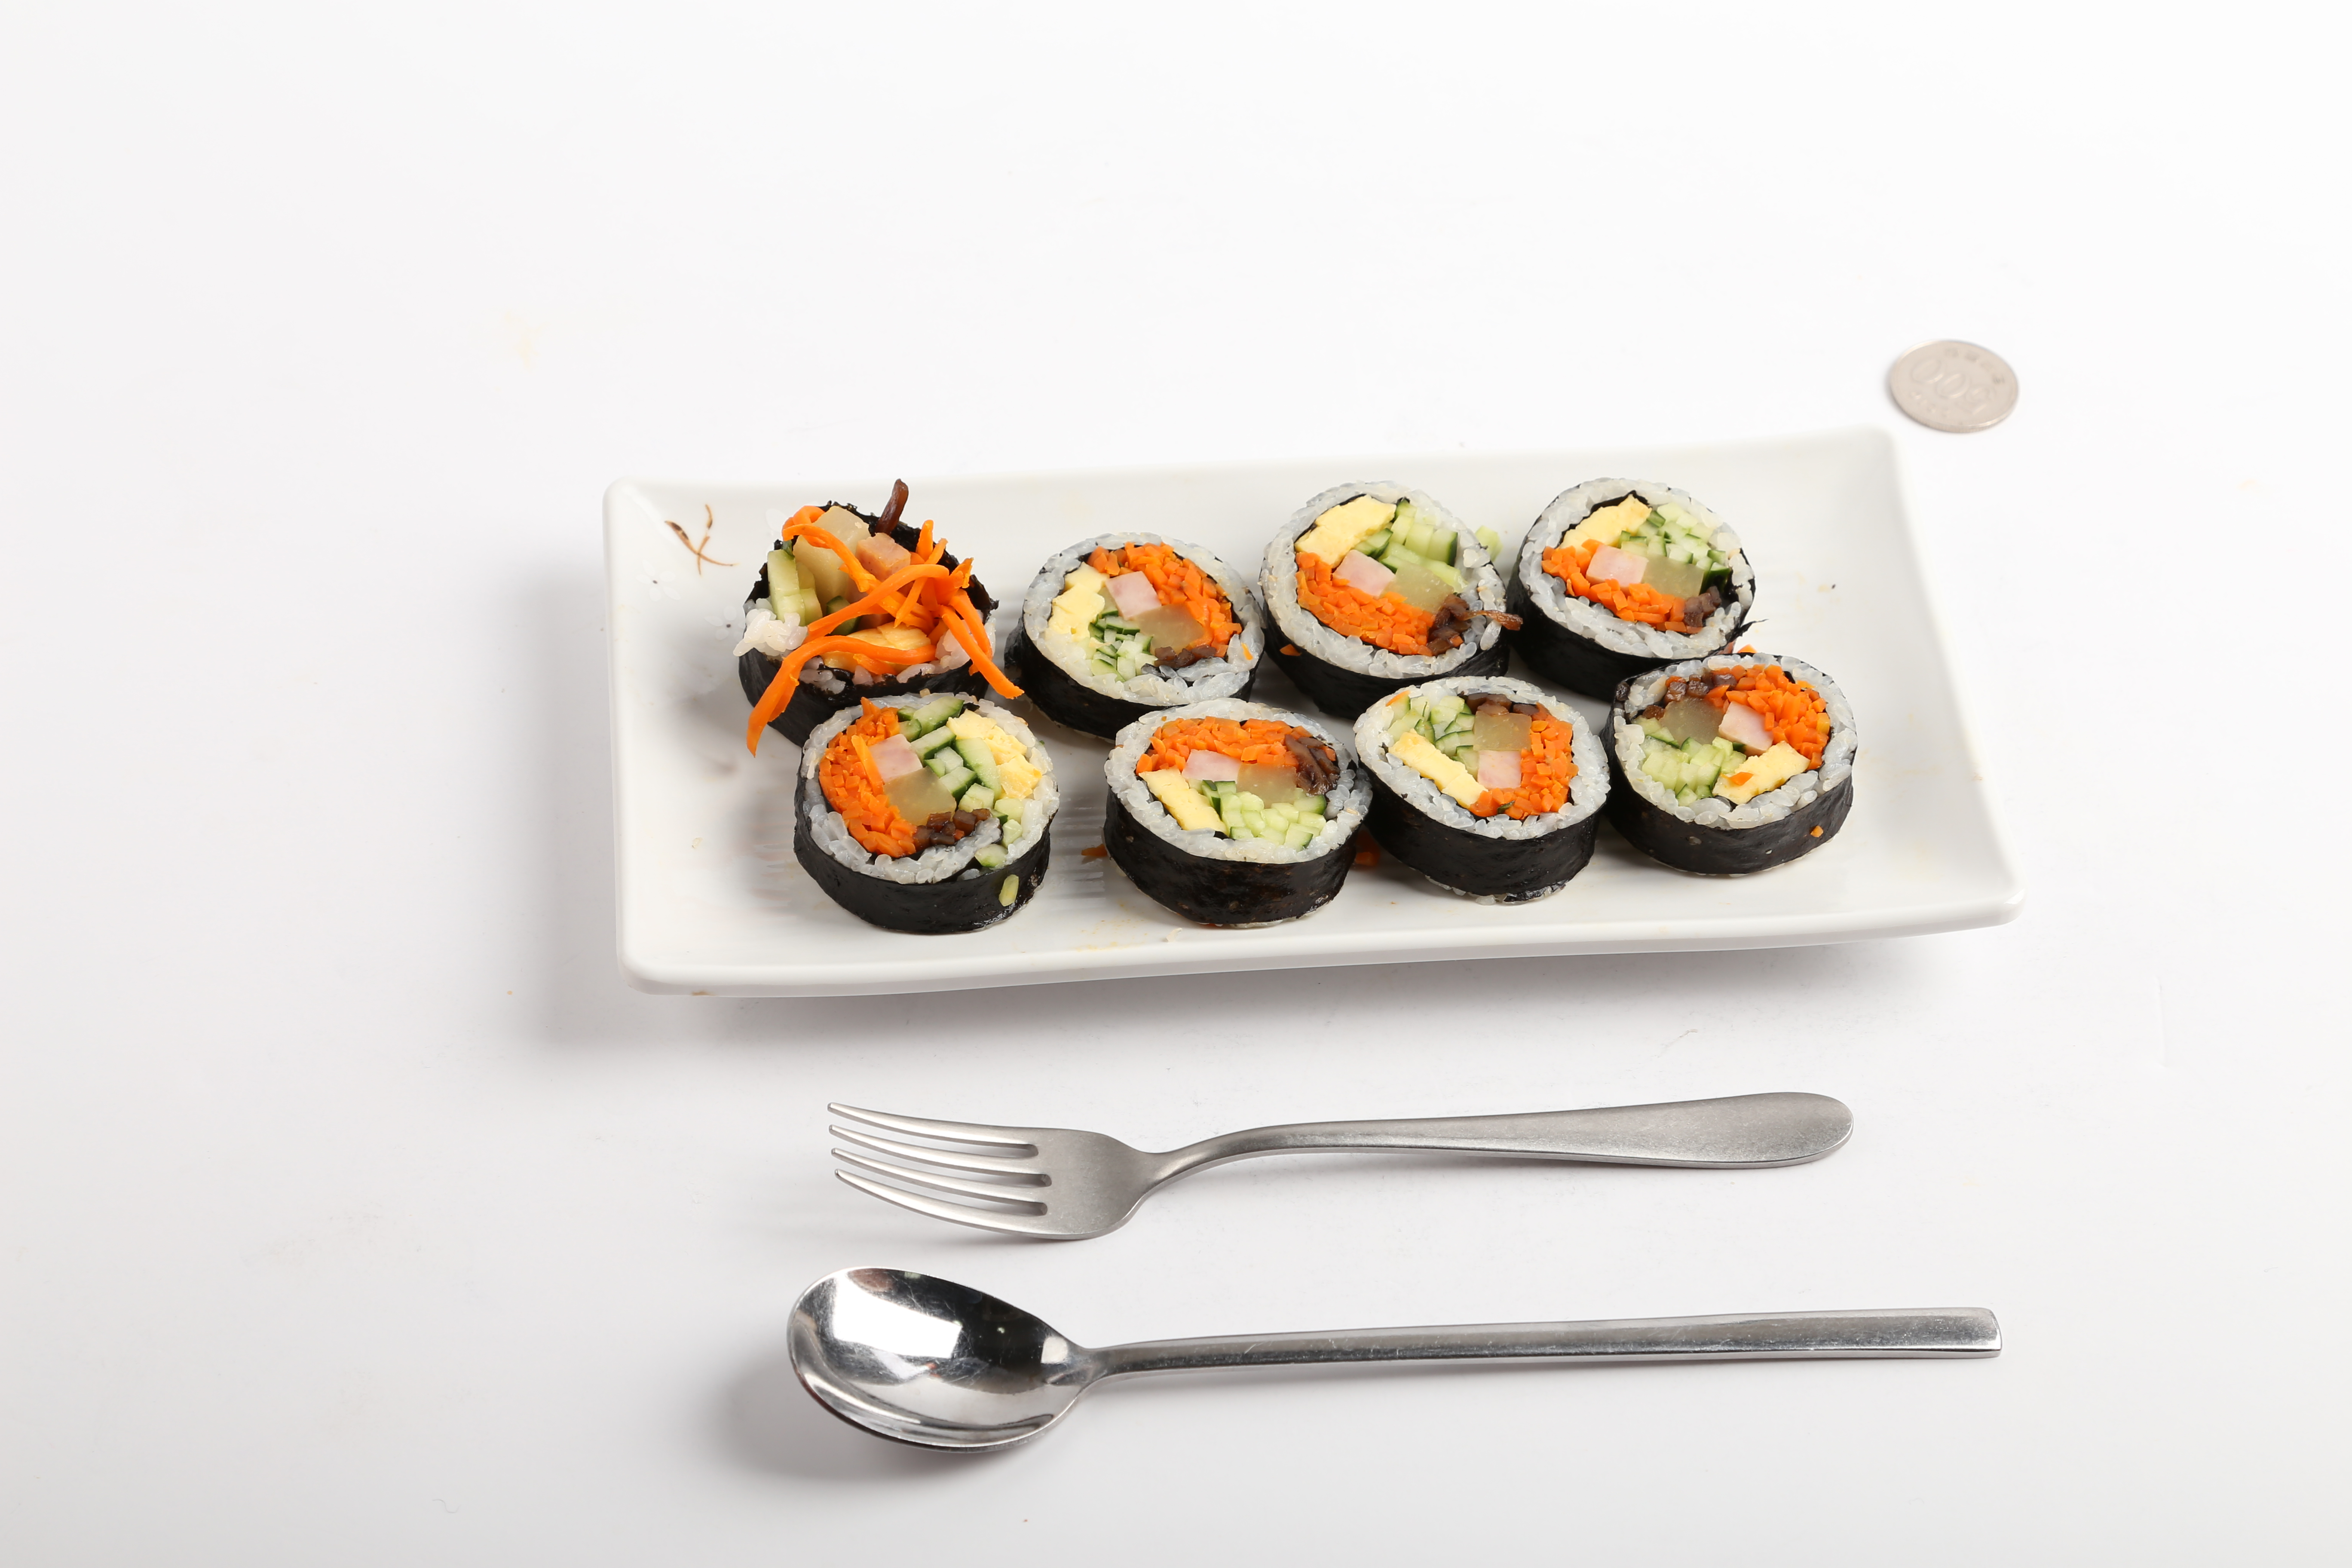dish: (597, 418, 2033, 1004)
ref_coin: (1886, 331, 2025, 439)
ref_fork: (824, 1094, 1232, 1246)
ref_spoon: (777, 1260, 1185, 1456)
김밥: (717, 474, 1864, 934)
